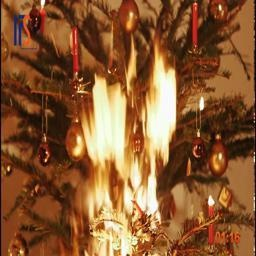fire: (79, 50, 182, 216)
